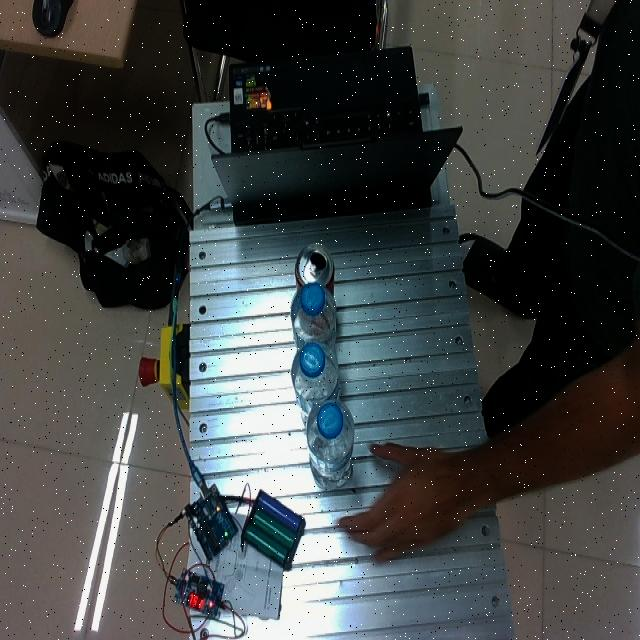coca: (293, 242, 335, 298)
lavie: (304, 395, 354, 488), (291, 341, 340, 416), (290, 283, 338, 352)
